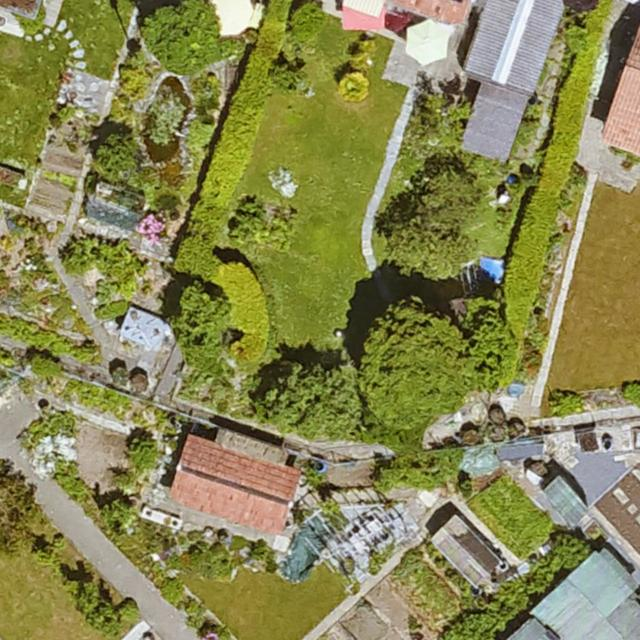tree: (354, 298, 472, 433), (261, 364, 365, 439), (145, 0, 221, 79), (387, 212, 470, 277), (462, 305, 517, 391), (173, 287, 231, 358), (424, 160, 485, 227), (419, 89, 473, 143), (91, 137, 136, 178)
